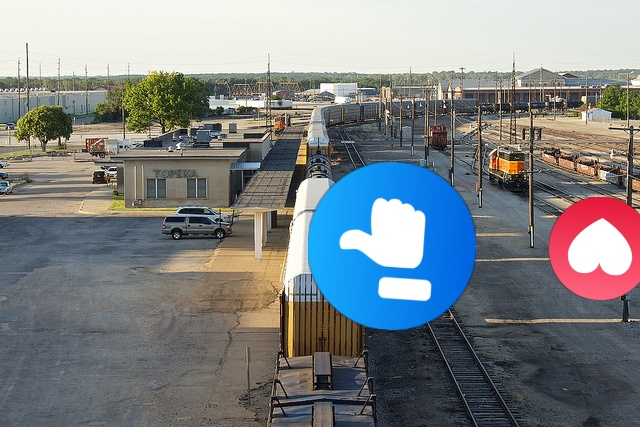like: (308, 162, 476, 330)
love: (549, 197, 640, 300)
